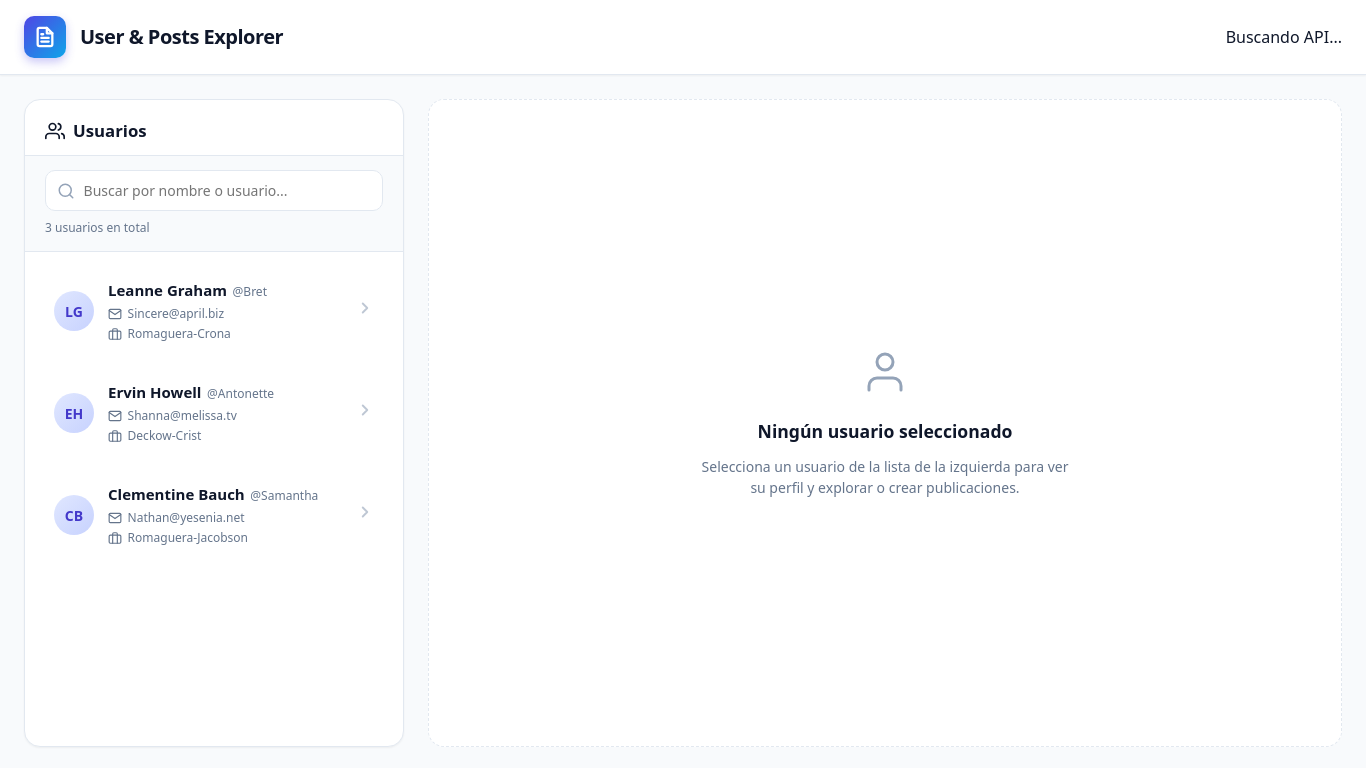
Scenario: App Integration Flow › muestra estado de error si falla la carga de posts y permite reintentar
expect the heading "Leanne Graham" is shown: met, box [108,279,227,302]
What coordinates should you click on to do the following:
click the button with aria-label "ver publicaciones de Leanne Graham"
I would click on:
 (214, 311)
Its box is [37,264,391,358].
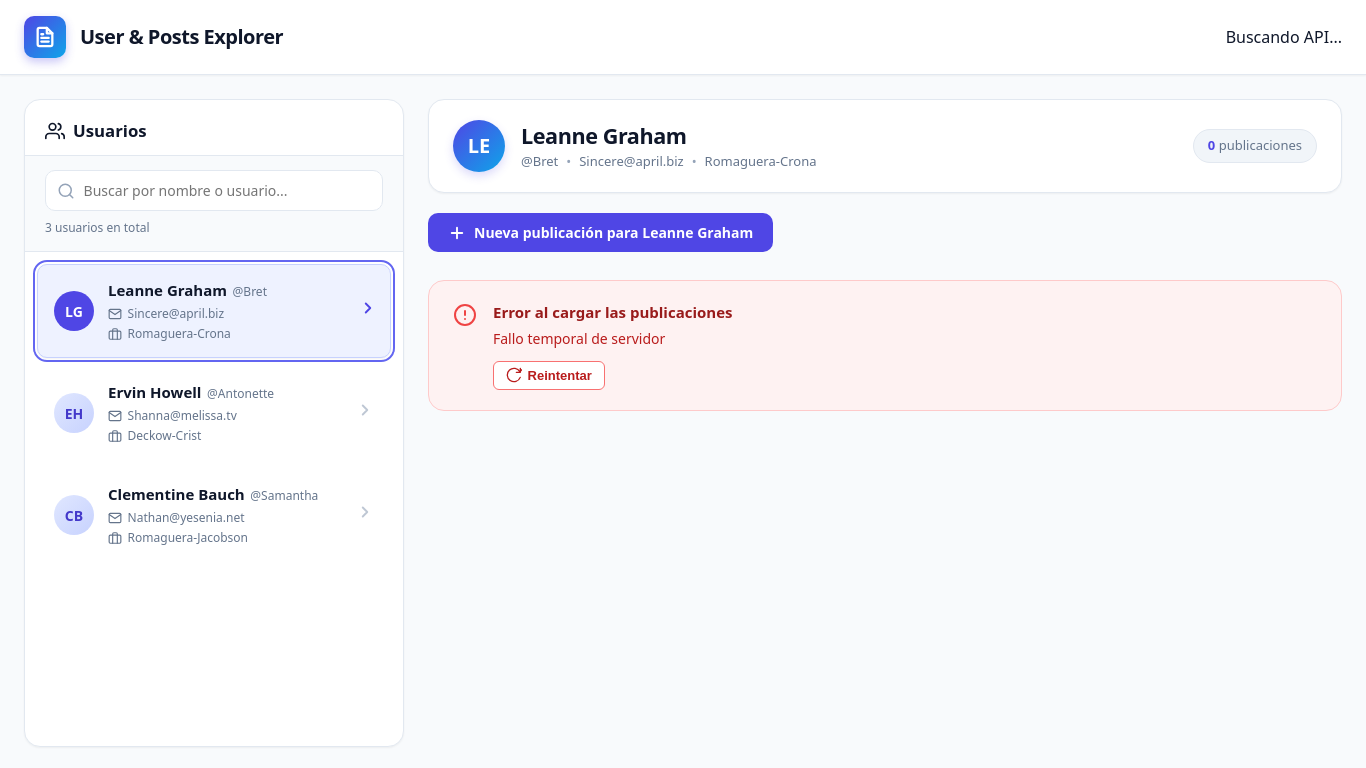
expect the heading "Error al cargar las publicaciones" is shown: met, box [493,301,732,324]
expect the text "Fallo temporal de servidor" is shown: met, box [493,328,665,348]
What coordinates should you click on to do the following:
click the button "Reintentar"
I would click on:
 (549, 375)
Its box is [493,360,605,390].
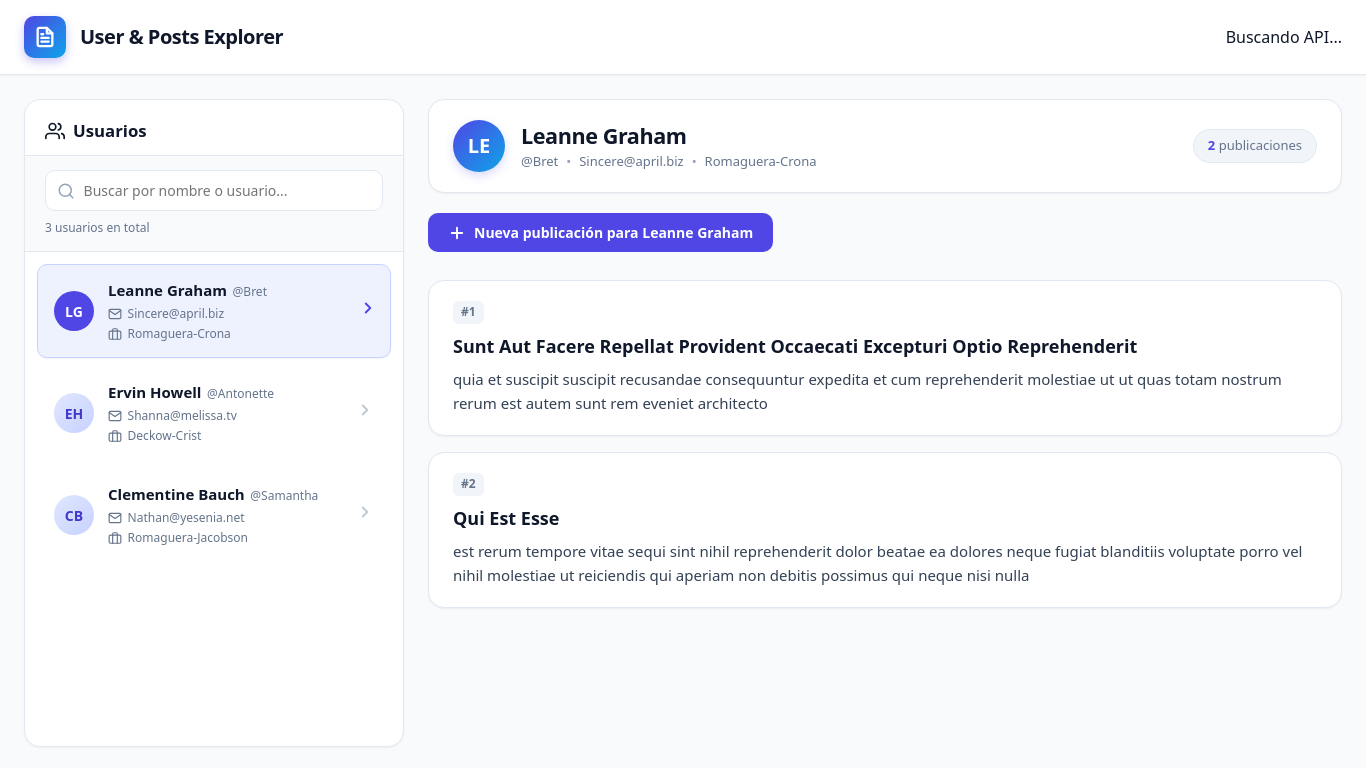
expect the heading "sunt aut facere repellat provident occaecati excepturi optio reprehenderit" is shown: met, box [453,334,1137,358]
